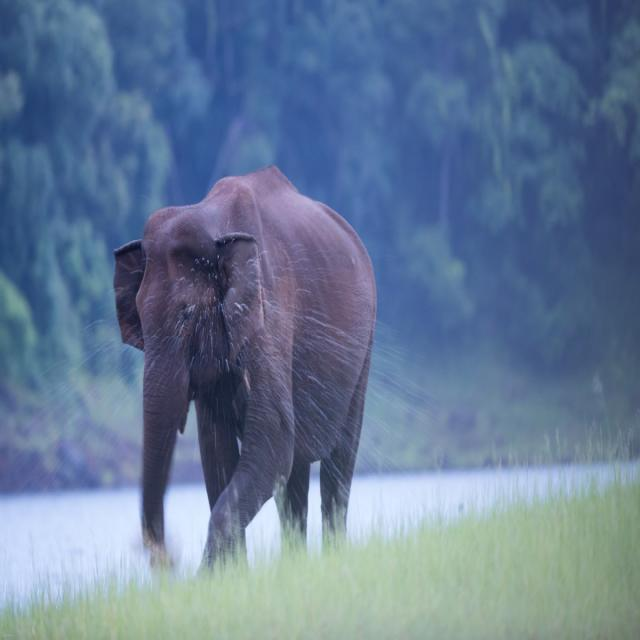Elephant: (111, 159, 369, 561)
